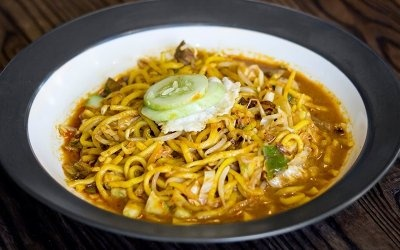mie_aceh: (65, 49, 353, 223)
